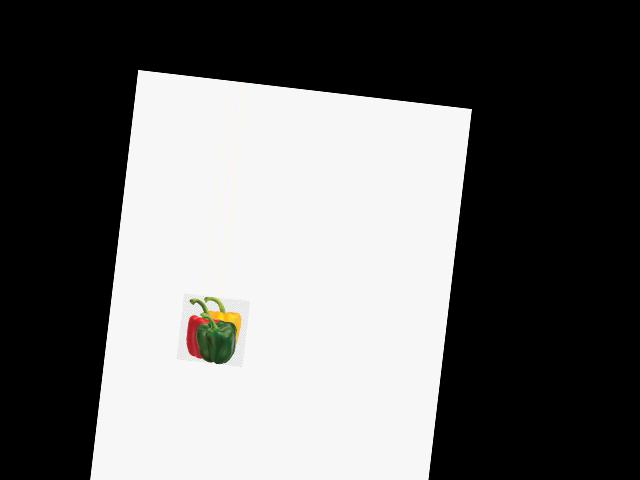bell_pepper: (176, 295, 221, 361)
